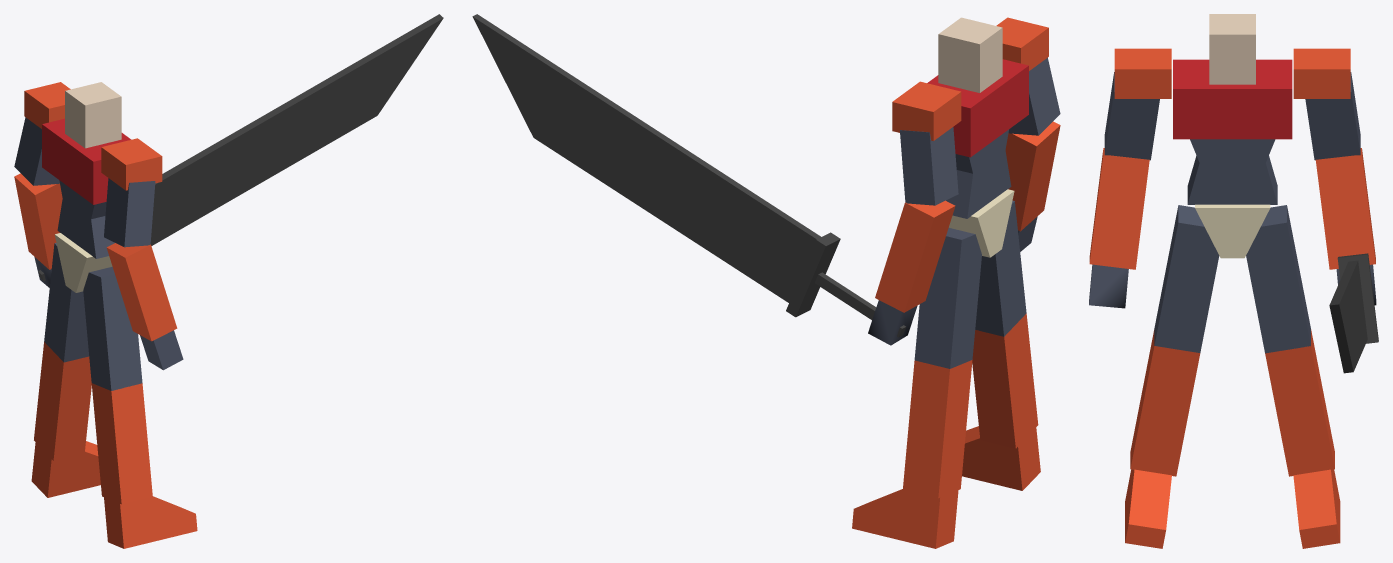
Rendered from cloud.fbx.
3 renders of one model, left to right at view 1: azimuth 30°, elevation 25°; view 2: azimuth 150°, elevation 25°; view 3: azimuth 270°, elevation 25°, orthographic. The views are drawn at different scales.
Parts seen in each view (by area): view 1: Cube, Cube.019, Cube.002, Cube.018, Cube.008, Cube.016, Cube.005, Cube.015, Cube.001, Cube.007, Cube.012, Cube.017 (+6 smaller); view 2: Cube, Cube.018, Cube.001, Cube.019, Cube.012, Cube.017, Cube.005, Cube.015, Cube.002, Cube.014, Cube.008, Cube.016 (+6 smaller); view 3: Cube.005, Cube.001, Cube.002, Cube.019, Cube.018, Cube.004, Cube.008, Cube.012, Cube, Cube.015, Cube.017, Cube.016 (+6 smaller).
Boxes of the visible parts, <box> form: Cube: <box>38,14,443,281</box>; Cube.019: <box>91,383,152,504</box>; Cube.002: <box>83,266,142,390</box>; Cube.018: <box>34,342,91,460</box>; Cube.008: <box>106,243,177,341</box>; Cube.016: <box>104,496,197,548</box>; Cube.005: <box>42,118,131,204</box>; Cube.015: <box>65,82,121,148</box>; Cube.001: <box>44,243,88,362</box>; Cube.007: <box>104,178,155,247</box>; Cube.012: <box>14,173,62,269</box>; Cube.017: <box>31,441,100,497</box>; Cube: <box>472,14,906,337</box>; Cube.018: <box>903,360,972,498</box>; Cube.001: <box>914,228,981,368</box>; Cube.019: <box>972,313,1038,448</box>; Cube.012: <box>875,200,955,312</box>; Cube.017: <box>852,489,958,548</box>; Cube.005: <box>927,59,1028,157</box>; Cube.015: <box>938,17,1002,92</box>; Cube.002: <box>975,200,1026,336</box>; Cube.014: <box>900,127,958,205</box>; Cube.008: <box>1005,121,1060,231</box>; Cube.016: <box>962,426,1040,490</box>; Cube.005: <box>1173,59,1292,139</box>; Cube.001: <box>1246,205,1310,353</box>; Cube.002: <box>1154,205,1219,352</box>; Cube.019: <box>1130,330,1200,476</box>; Cube.018: <box>1265,329,1334,476</box>; Cube.004: <box>1187,139,1277,204</box>; Cube.008: <box>1089,148,1149,269</box>; Cube.012: <box>1315,148,1375,269</box>; Cube: <box>1329,253,1378,373</box>; Cube.015: <box>1209,14,1255,84</box>; Cube.017: <box>1293,469,1340,548</box>; Cube.016: <box>1125,469,1171,548</box>.
Size of the model in its own units: 884 by 855 by 457.
